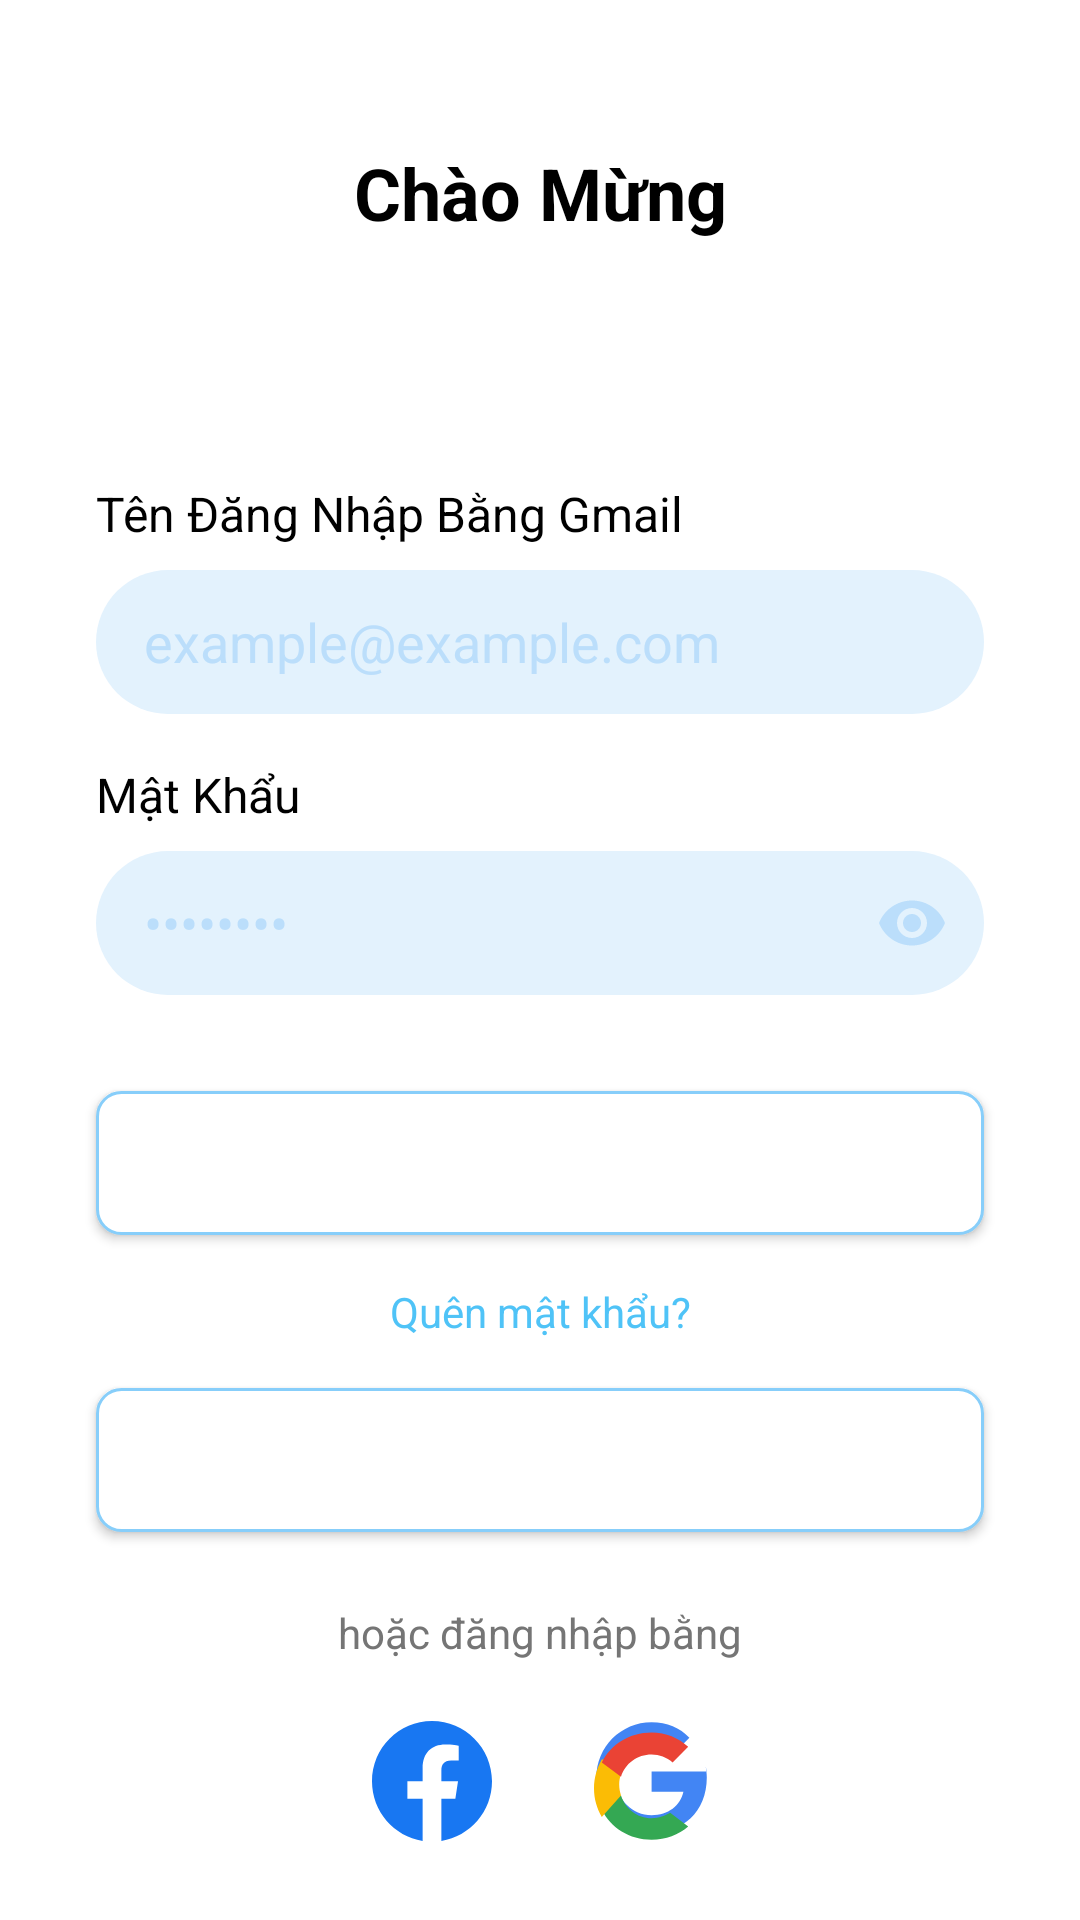

Icons on this 1080×1920 Android screen, each with its box as rect(x1, y1, x2, y2):
Toggle password visibility: rect(840, 851, 984, 995)
